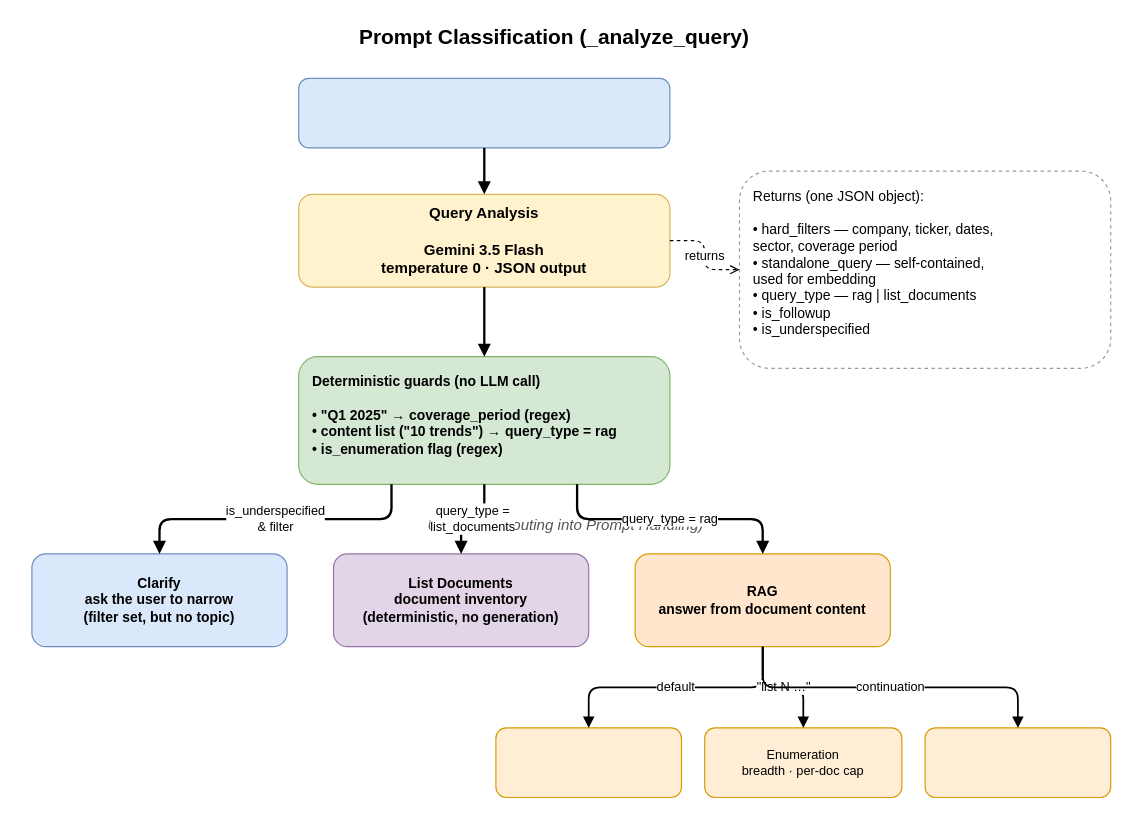
Image size: 1131x818. Some labels were removed from this diagram. The shapes that lost their labels are listed below. From the top down, each one's centre as x and y in pixels, then its label:
[484,112]: User Prompt + Conversation History (+ known companies / filenames from DB)
[588,762]: Standard tiered threshold
[1017,762]: Follow-up retrieve + history
